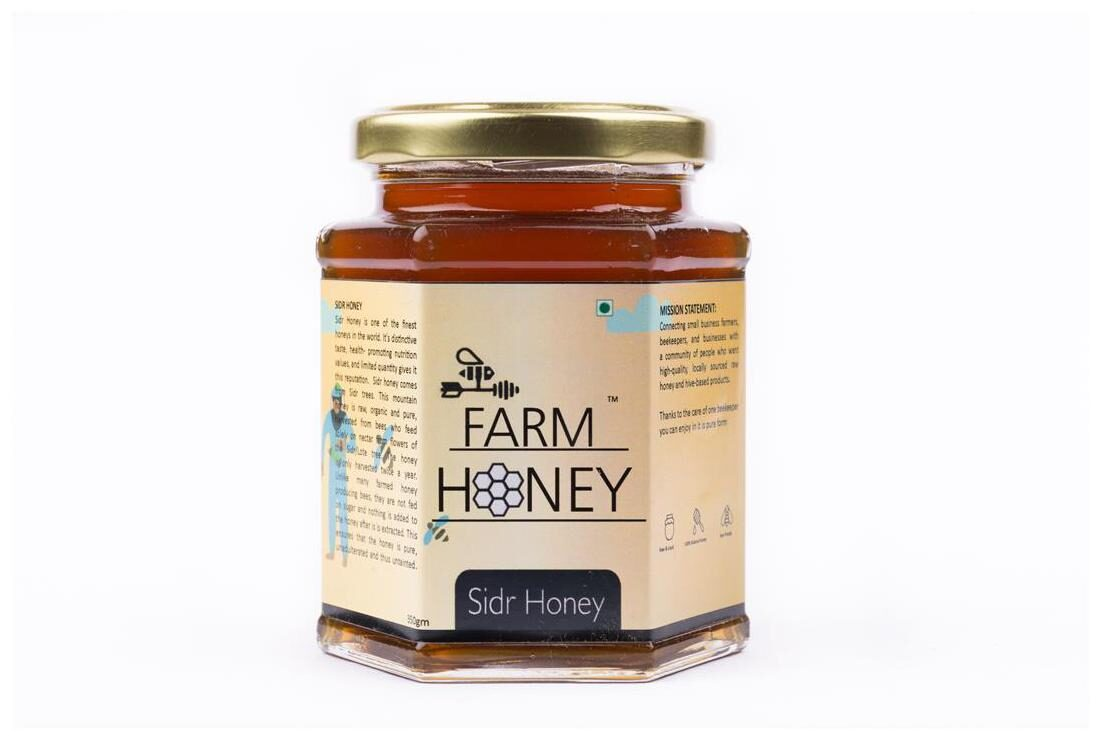JAR: (303, 95, 756, 690)
